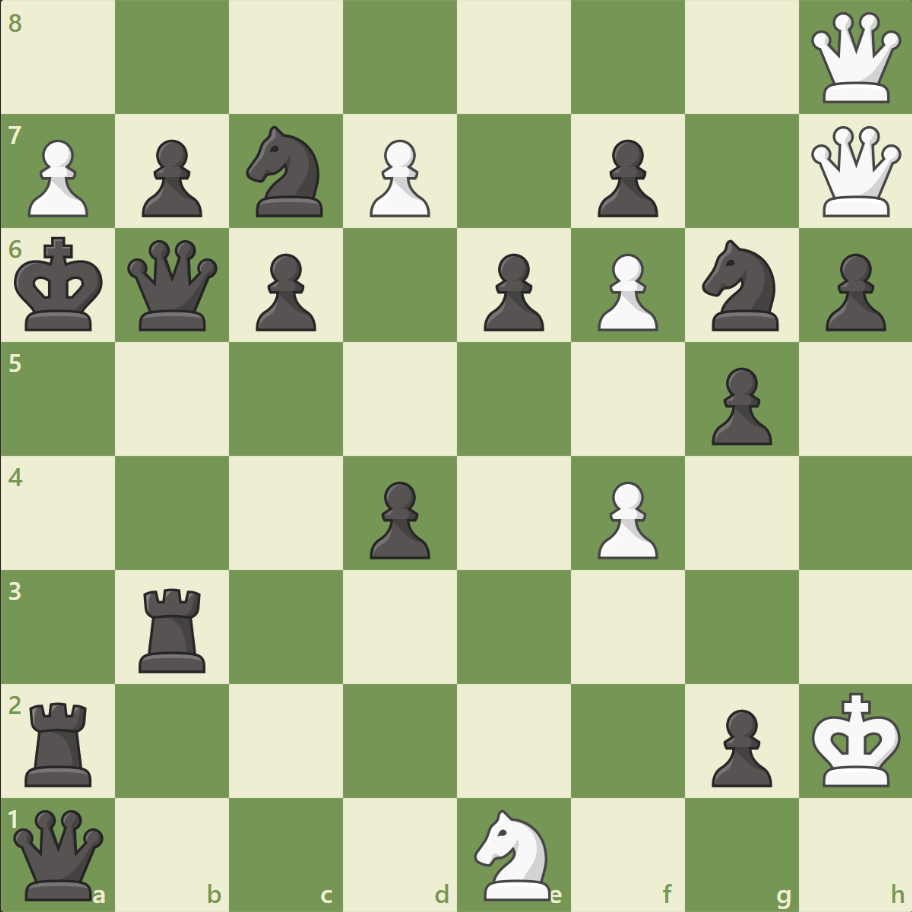K: (806, 685, 906, 793)
N: (465, 802, 562, 904)
P: (20, 132, 95, 223), (361, 132, 435, 223), (588, 246, 662, 337), (588, 473, 662, 564)
Q: (805, 122, 904, 222), (805, 9, 904, 108)
k: (11, 231, 111, 339)
n: (692, 234, 789, 337), (238, 121, 335, 223)
p: (133, 132, 208, 223), (247, 246, 322, 337), (474, 246, 549, 337), (701, 359, 776, 450), (701, 700, 776, 791), (588, 132, 662, 223), (815, 246, 889, 337), (361, 473, 435, 564)
q: (124, 236, 223, 335), (10, 804, 109, 903)
r: (19, 693, 102, 790), (133, 579, 215, 676)
